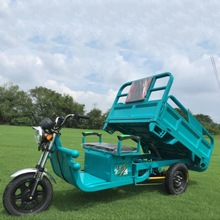tricycle: (3, 77, 213, 212)
